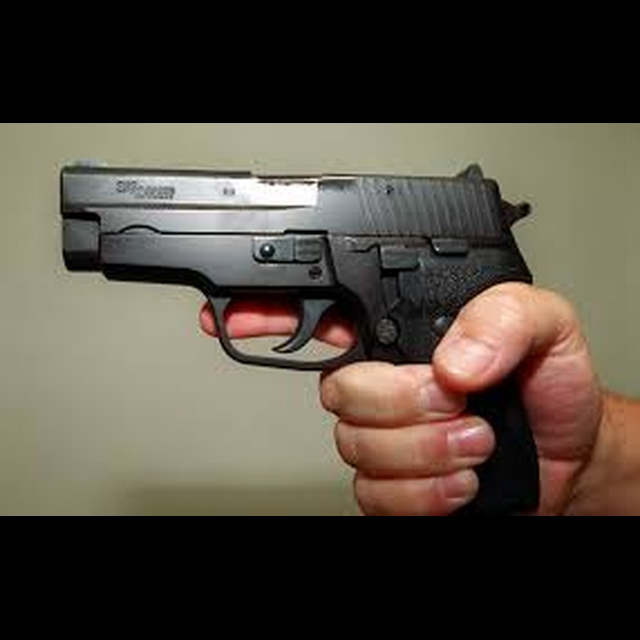SILAH: (49, 150, 566, 515)
